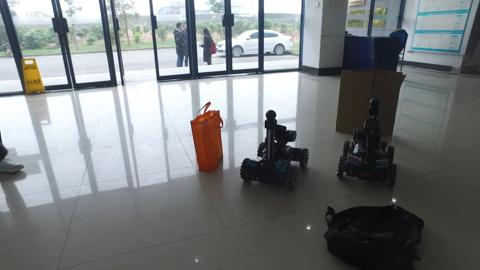bag: (322, 204, 429, 270), (188, 102, 226, 172)
chariot: (238, 108, 312, 192), (339, 101, 399, 189)
